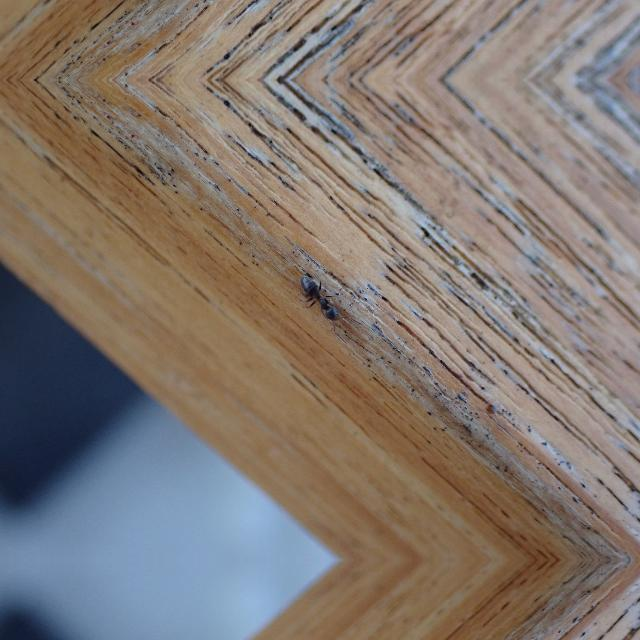Tapinoma: (290, 270, 346, 326)
